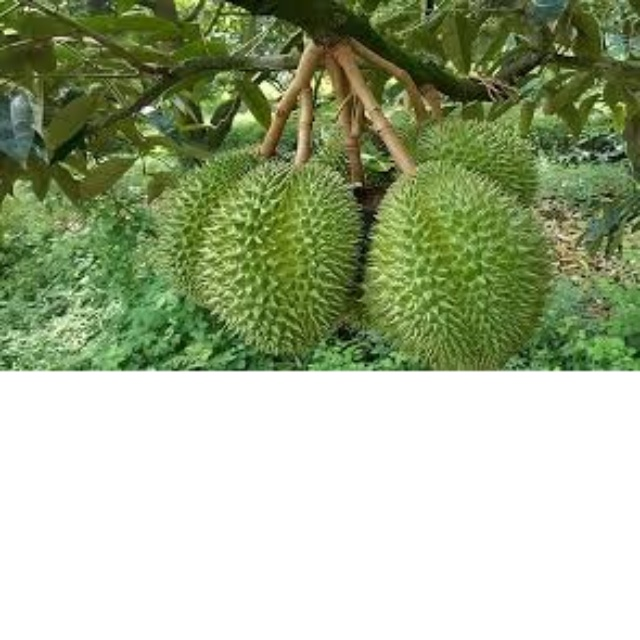sau_rieng: (364, 159, 550, 369), (196, 158, 364, 363), (412, 112, 544, 193)
